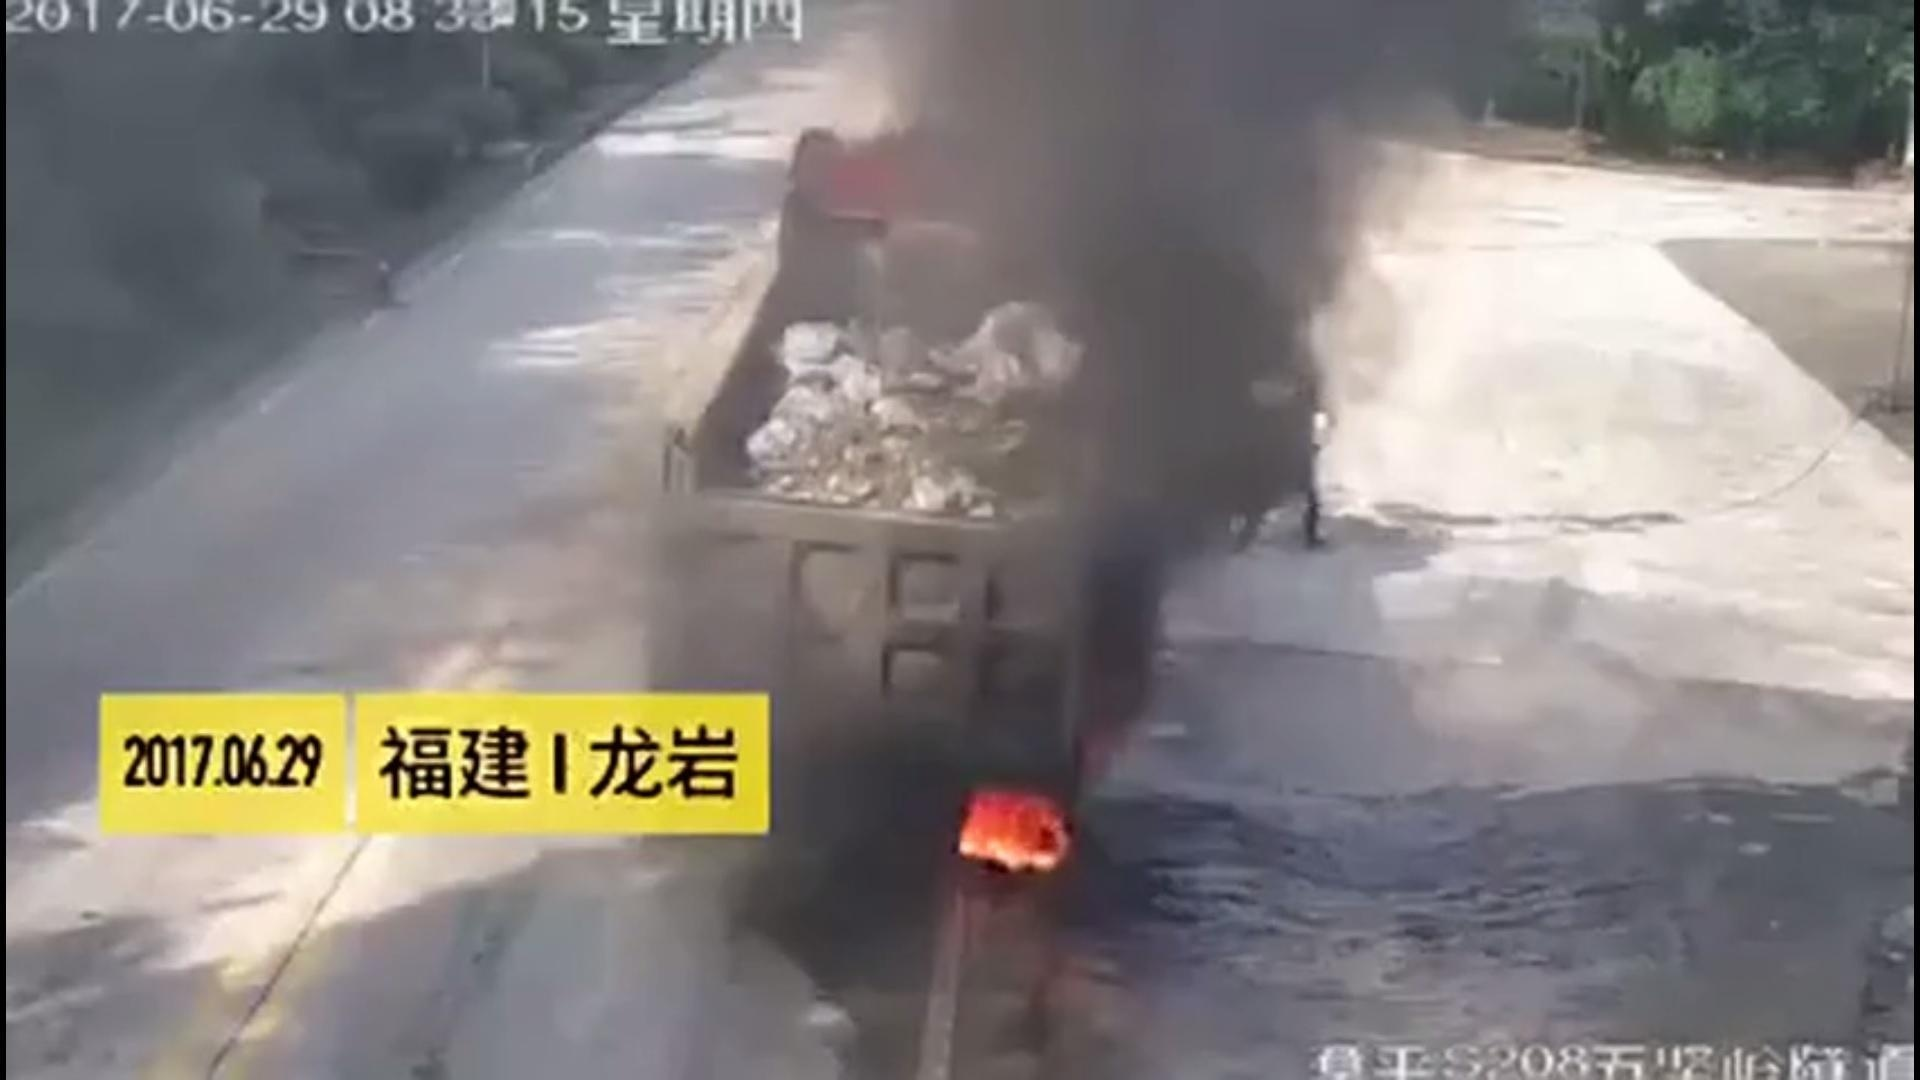fire: (955, 787, 1072, 873)
